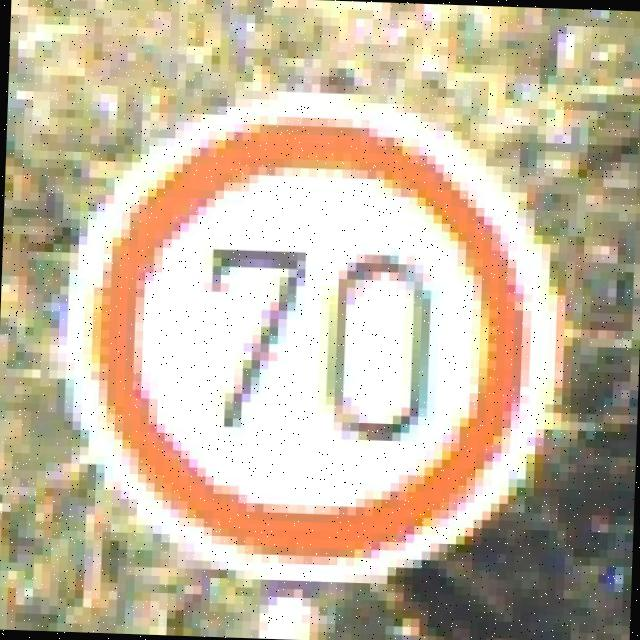Ograniczenie predkosci do 70: (87, 111, 531, 569)
